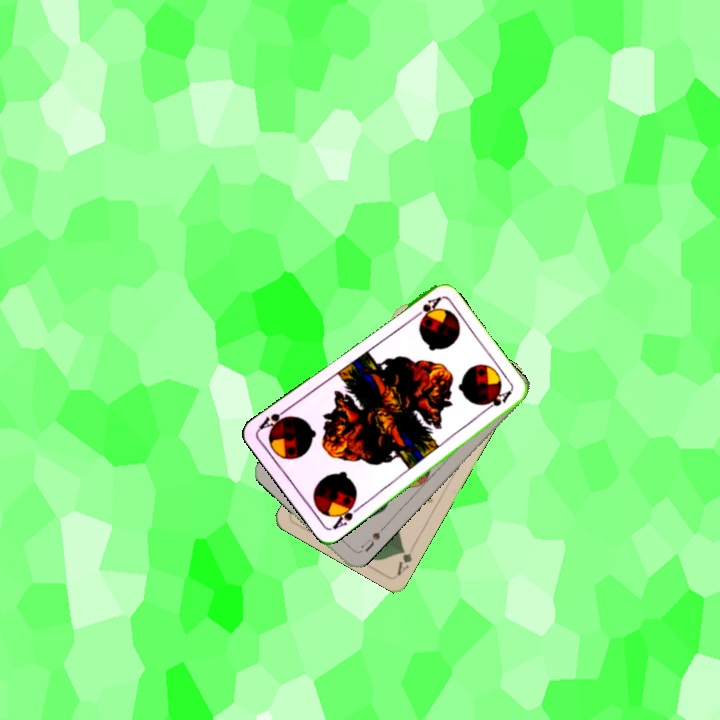GA: (393, 544, 415, 578)
SA: (328, 498, 363, 532), (408, 293, 443, 322)
SU: (354, 528, 383, 556)
